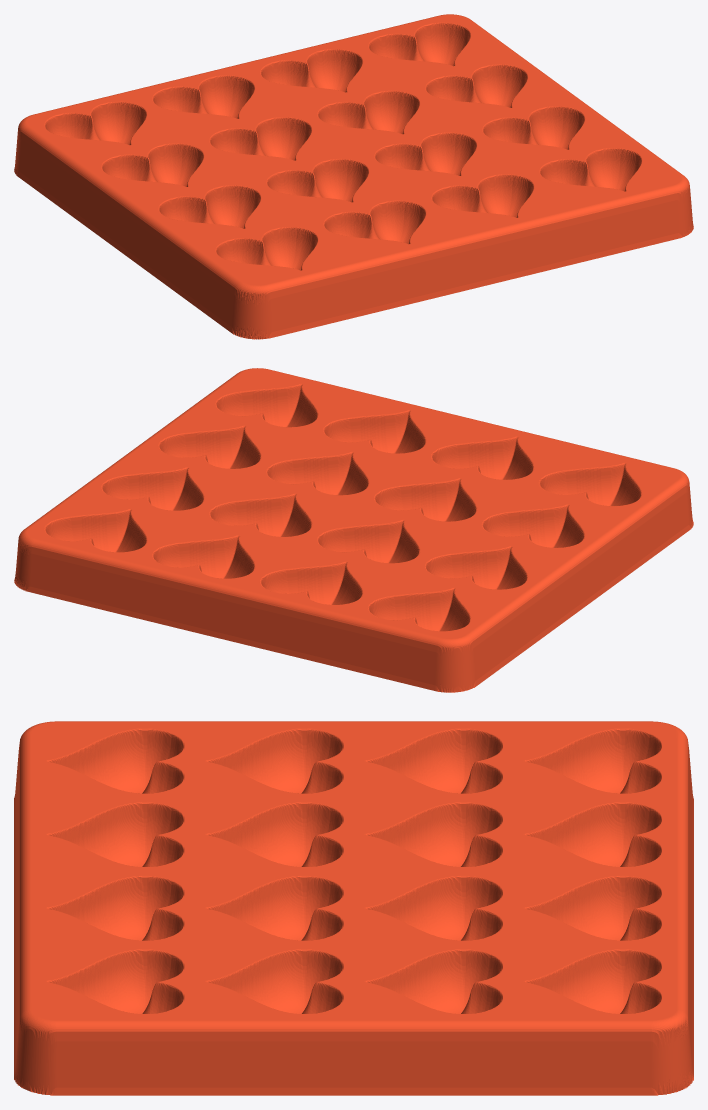
File: mold.glb
The picture shows the model from 3 angles, top to bottom: view 1: azimuth 30°, elevation 25°; view 2: azimuth 150°, elevation 25°; view 3: azimuth 270°, elevation 25°; orthographic projection. The views are drawn at different scales.
Parts seen in each view (by area): view 1: geometry_0; view 2: geometry_0; view 3: geometry_0.
Boxes of the visible parts, x1,y1,x2,y2 form: geometry_0: [14, 14, 693, 339]; geometry_0: [14, 368, 693, 692]; geometry_0: [14, 721, 693, 1095].
Bounding box in the file's own units: 0.1569 × 0.0159 × 0.1444.
